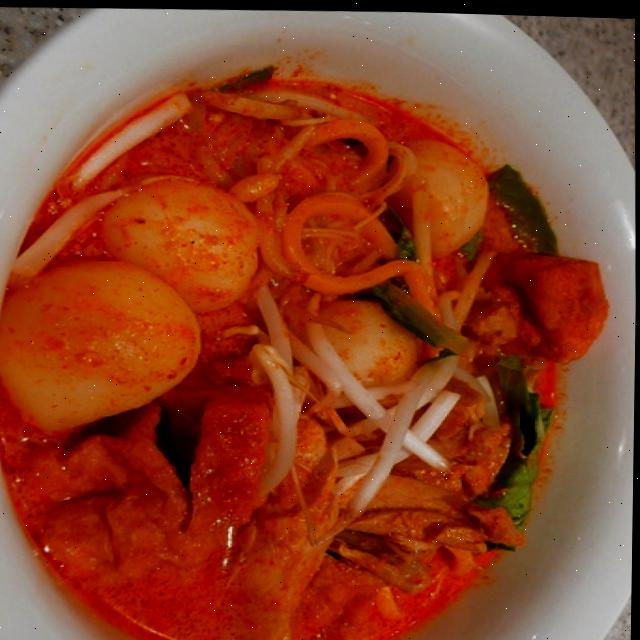面条主食: (0, 8, 628, 640)
